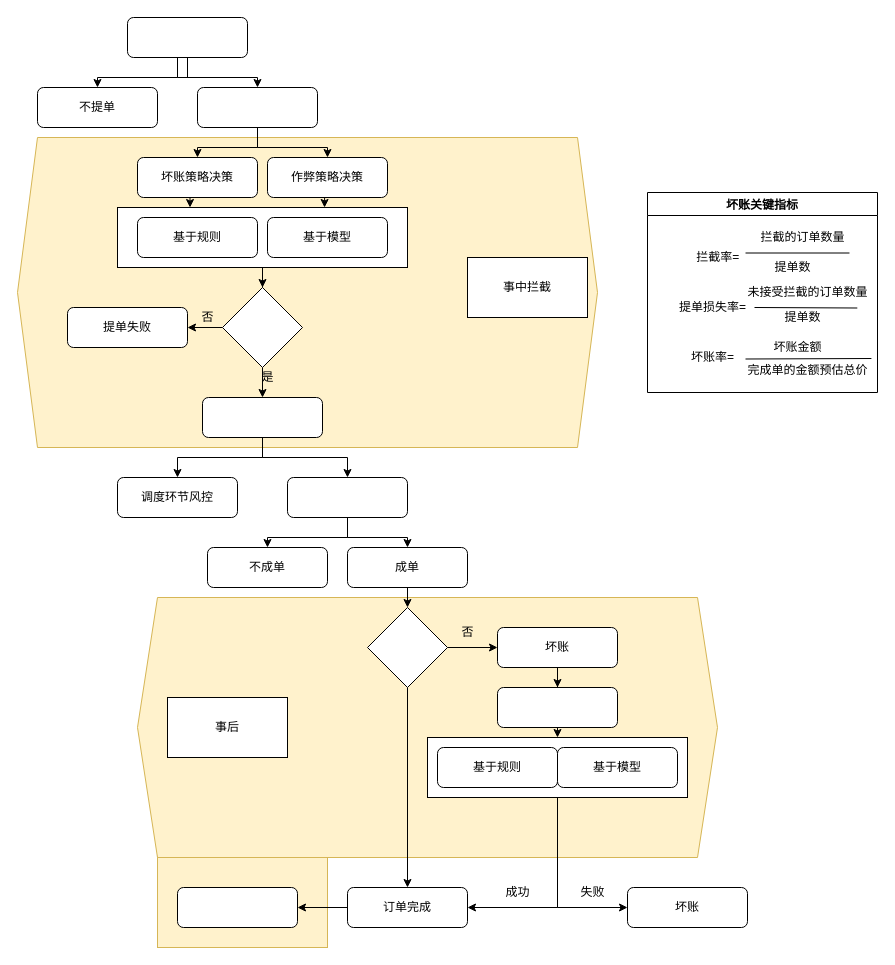
This 895x965 diagram has some shape labels left out. Here are the shapes that lost their labels. From the top down, the centre of each, then its label:
(x=187, y=37): 冒泡产生预估价
(x=257, y=107): 点击提单
(x=262, y=327): 是否 接受拦截
(x=262, y=417): 提单成功
(x=347, y=497): 调度派单
(x=407, y=647): 是否支付
(x=557, y=707): 催款策略决策
(x=237, y=907): 作弊识别挖掘
